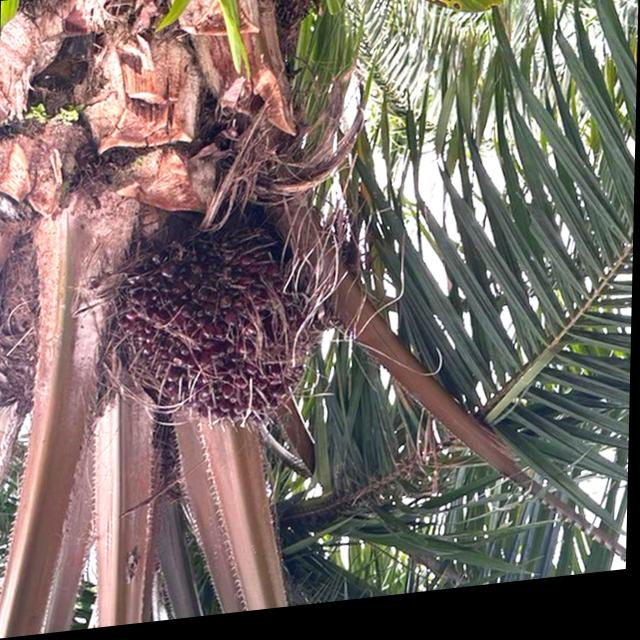ripe: (96, 214, 332, 470)
